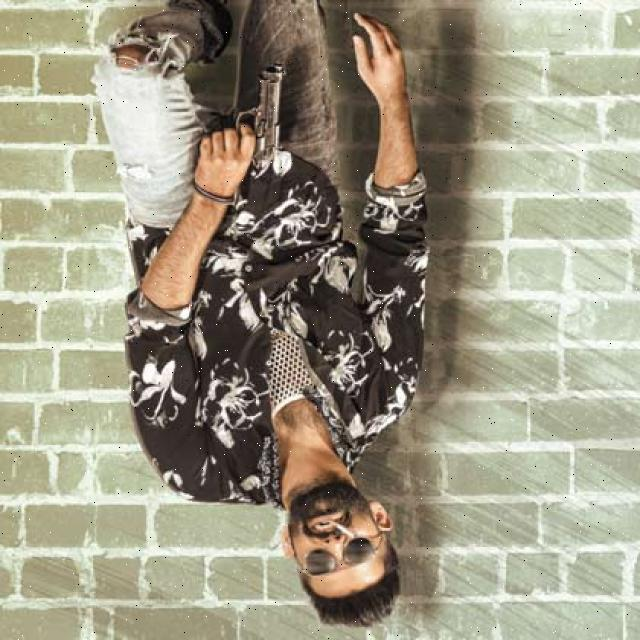gun: (194, 60, 292, 177)
